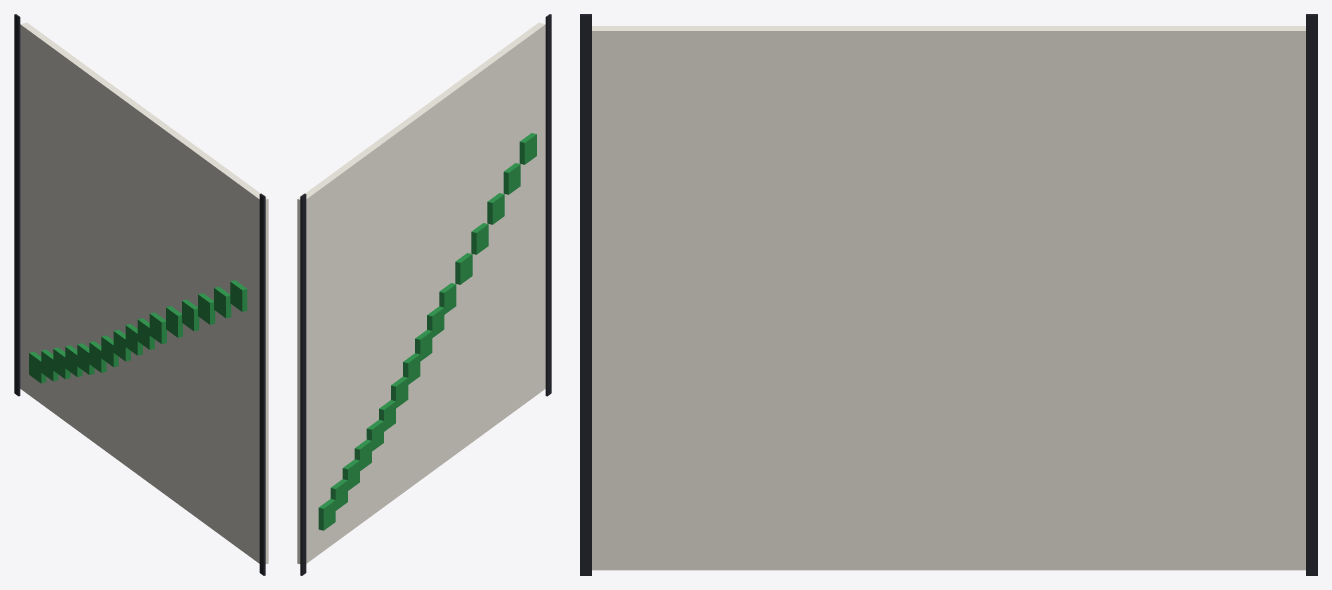
The model's file is fx_chart_up.glb.
The picture shows the model from 3 angles, left to right: view 1: azimuth 30°, elevation 25°; view 2: azimuth 150°, elevation 25°; view 3: azimuth 270°, elevation 25°; orthographic projection. The views are drawn at different scales.
Parts seen in each view (by area): view 1: fx_chart_up; view 2: fx_chart_up; view 3: fx_chart_up.
Part boxes in pixels (bbox=[...]): fx_chart_up: bbox=[14, 14, 268, 575]; fx_chart_up: bbox=[297, 14, 551, 575]; fx_chart_up: bbox=[580, 14, 1317, 575].
Bounding box in the file's own units: 0.0175 × 0.52 × 0.62.
Materials: 1 (1 with a texture image).
